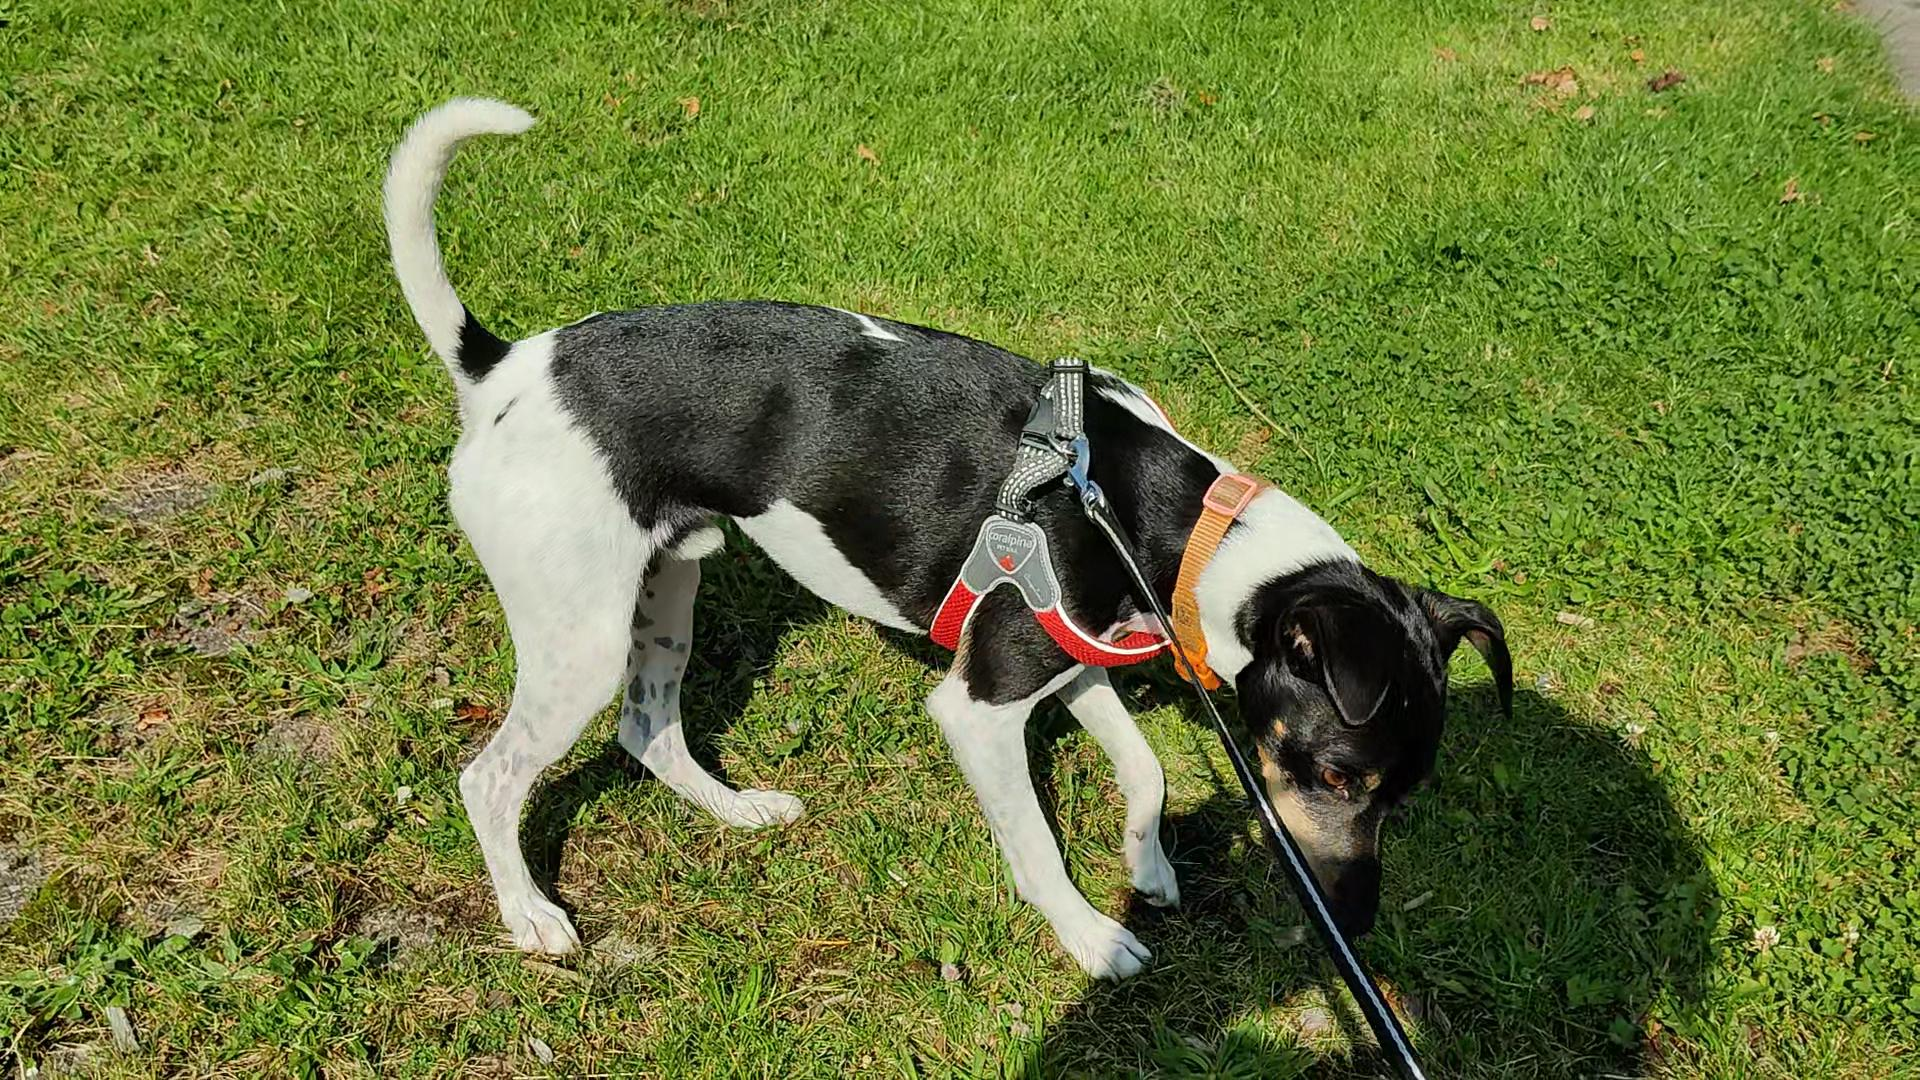Dog: (349, 75, 1531, 1007)
